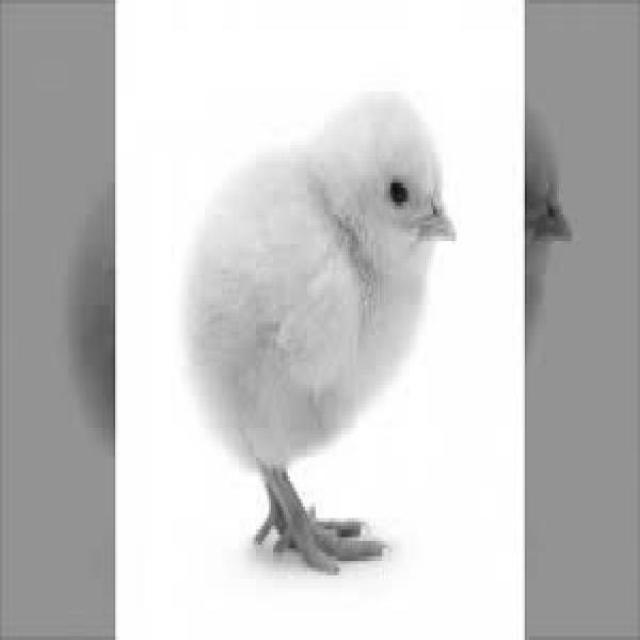poussin: (170, 90, 464, 582)
